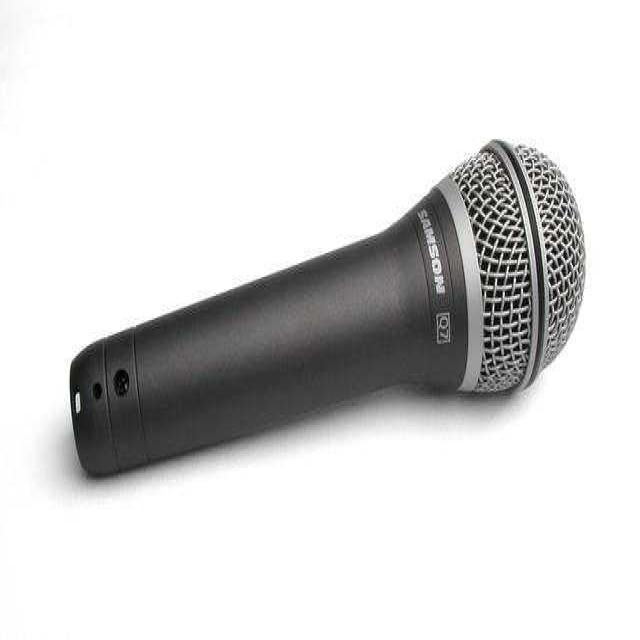microphone: (72, 136, 574, 477)
